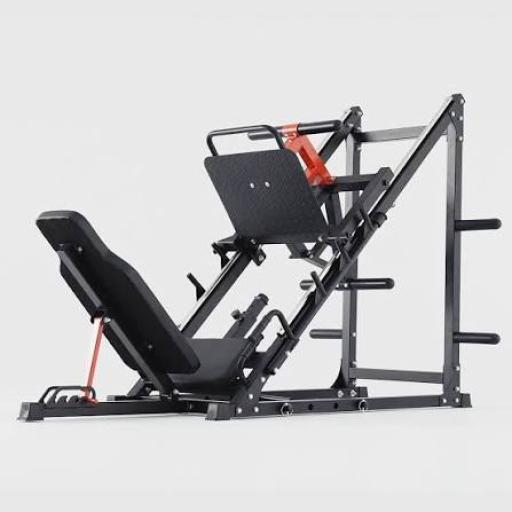Leg Press: (33, 130, 459, 410)
